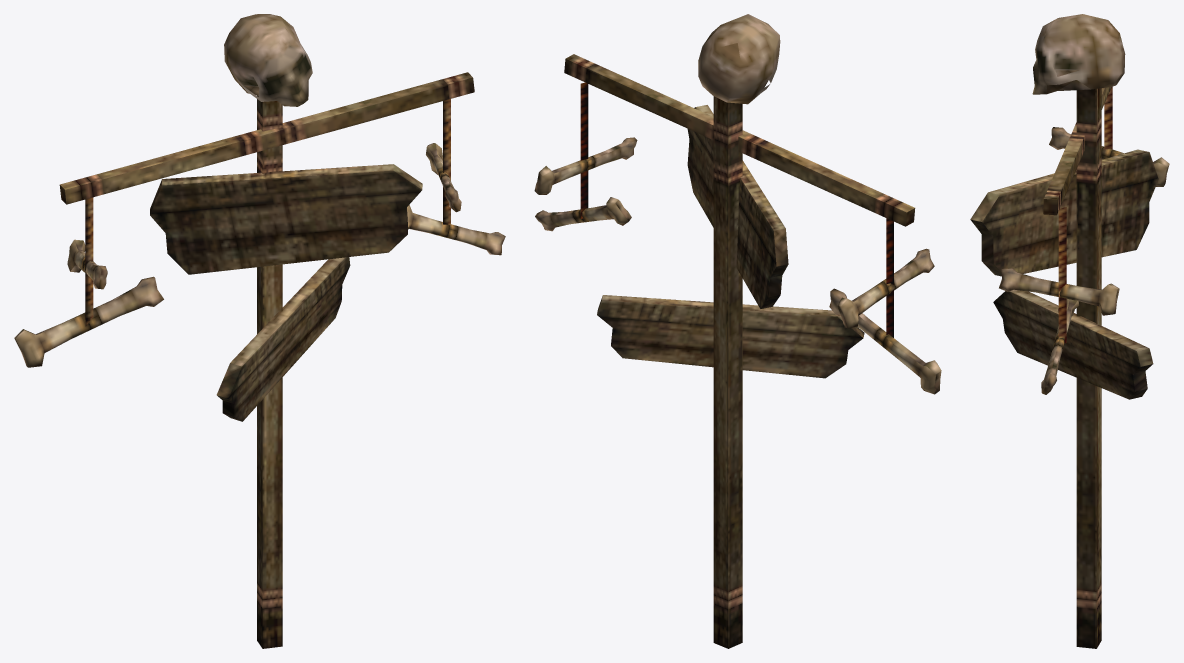
File: ob-11-05-bonetomb_01.glb
3 renders of one model, left to right at view 1: azimuth 30°, elevation 25°; view 2: azimuth 150°, elevation 25°; view 3: azimuth 270°, elevation 25°, orthographic.
Parts seen in each view (by area): view 1: Mesh01; view 2: Mesh01; view 3: Mesh01.
Part boxes in pixels (x1,y1,x2,y2): Mesh01: (14,14,505,648); Mesh01: (534,14,941,648); Mesh01: (970,14,1169,648).
Bounding box in the file's own units: 2.28 × 3.04 × 0.8864.
1 material, 1 textured.
